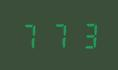seven: (18, 20, 44, 50), (46, 20, 72, 49)
three: (73, 19, 99, 49)
